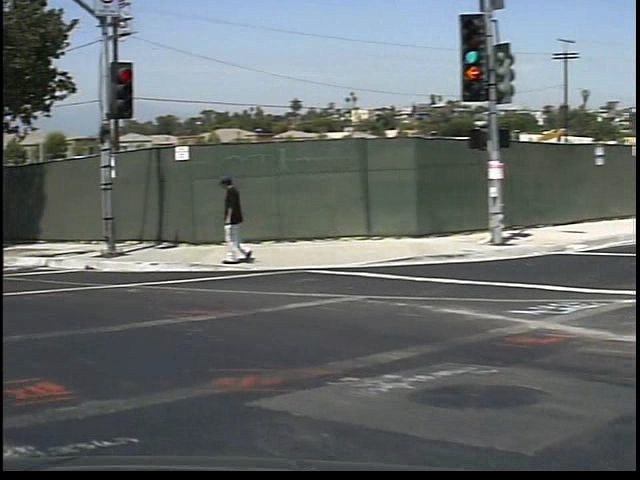person: (202, 173, 251, 283)
